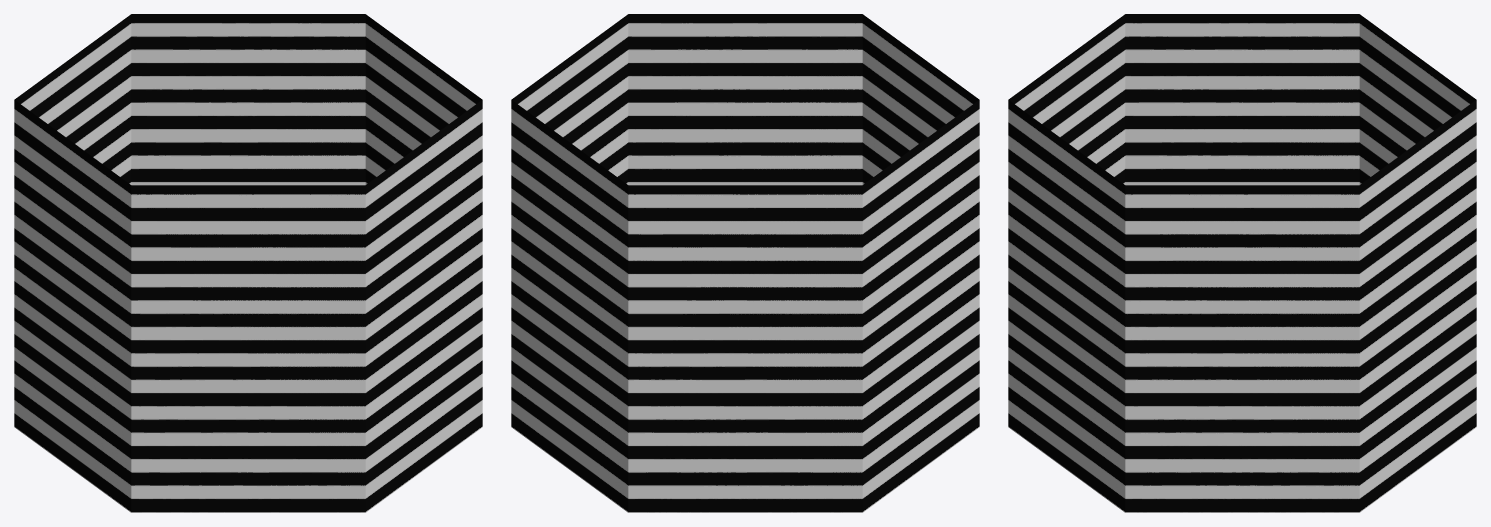
Rendered from HexWall.fbx.
3 renders of one model, left to right at view 1: azimuth 30°, elevation 25°; view 2: azimuth 150°, elevation 25°; view 3: azimuth 270°, elevation 25°, orthographic.
Parts seen in each view (by area): view 1: HexWall; view 2: HexWall; view 3: HexWall.
Boxes of the visible parts, x1,y1,x2,y2 form: HexWall: (14,14,482,512); HexWall: (511,14,979,512); HexWall: (1008,14,1476,512).
Bounding box in the file's own units: 767 × 684 × 885.
